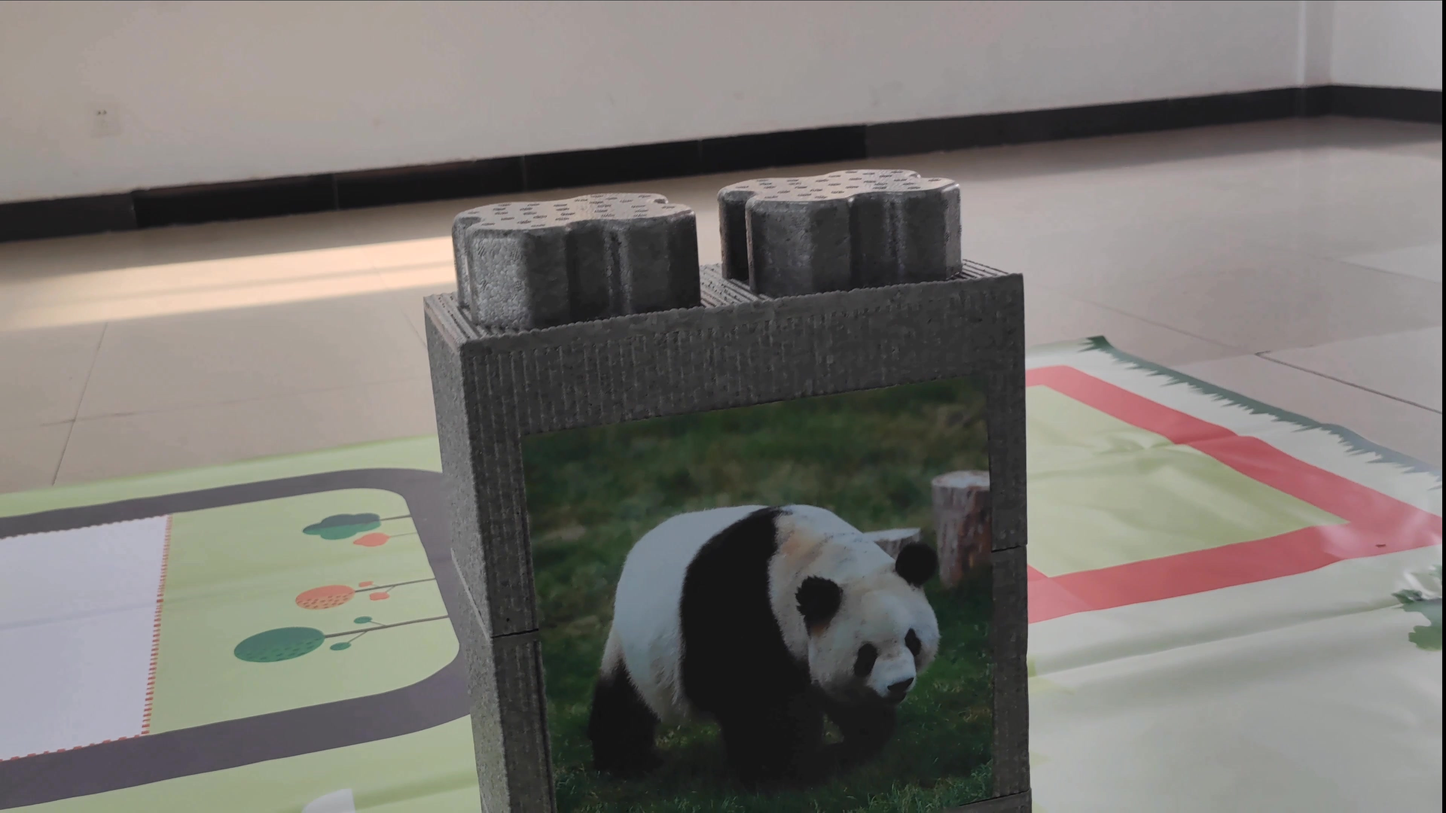panda: (556, 440, 958, 784)
